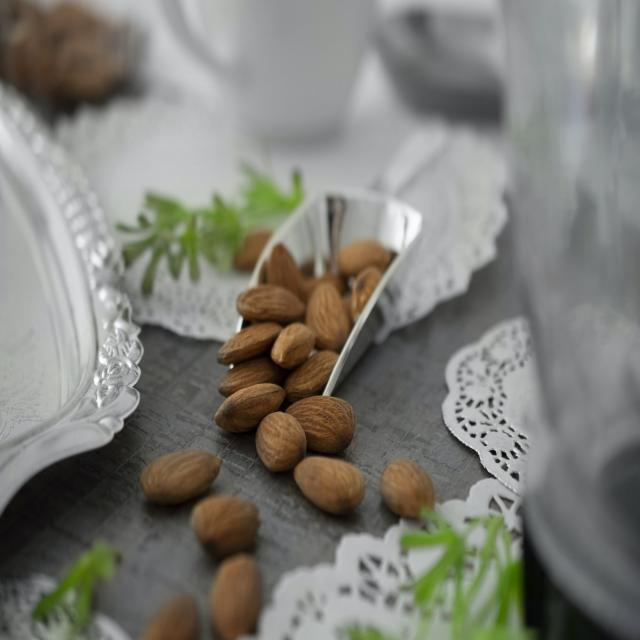almond: (140, 449, 223, 507), (293, 454, 367, 514), (282, 399, 358, 456), (190, 495, 261, 553), (379, 462, 438, 523), (215, 383, 286, 431), (215, 322, 284, 368), (255, 410, 304, 474), (305, 281, 349, 350), (282, 349, 341, 395), (236, 284, 306, 321), (217, 361, 280, 395), (271, 325, 314, 371)
